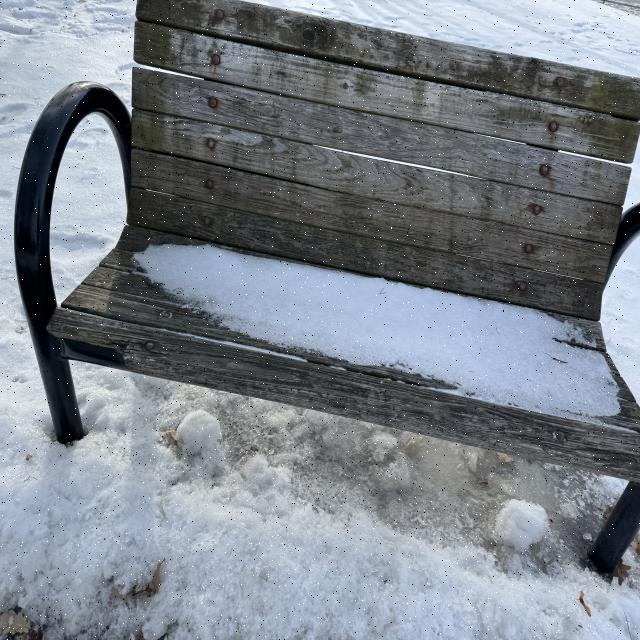Bench: (29, 69, 640, 485)
